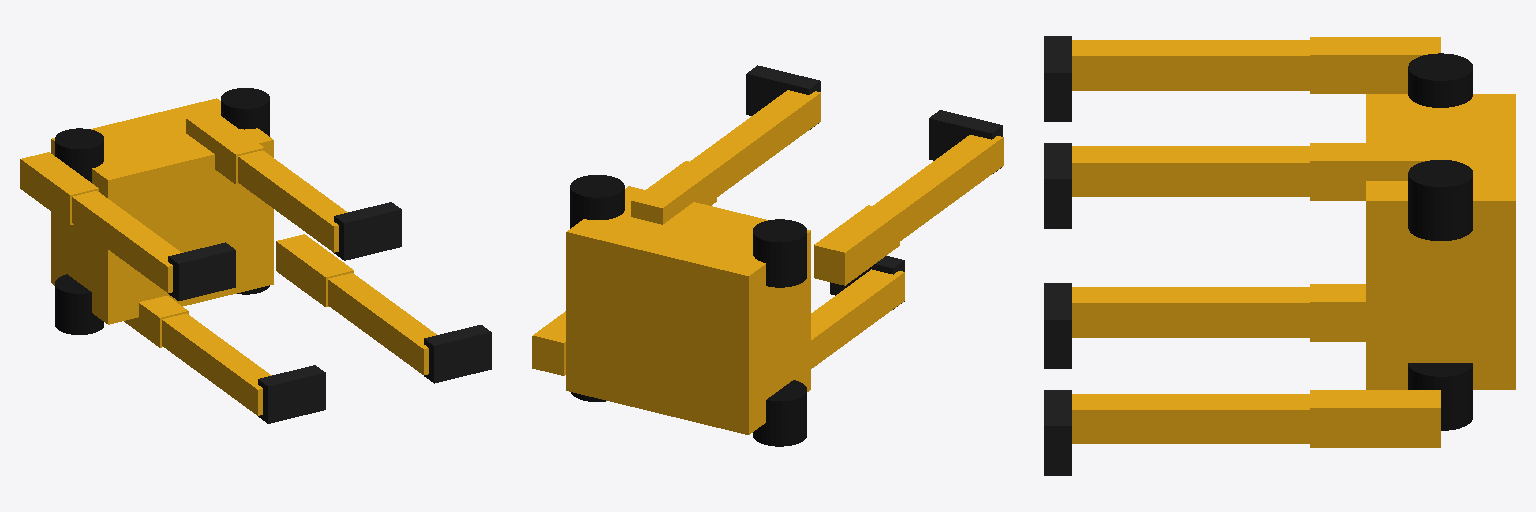
URDF robot description (cubebot):
<?xml version="1.0"?>
<robot name="cubebot">
  <material name="shell"><color rgba="0.98 0.72 0.12 1"/></material>
  <material name="joint"><color rgba="0.12 0.12 0.12 1"/></material>
  <material name="foot"><color rgba="0.16 0.16 0.16 1"/></material>
  <link name="body">
    <visual><origin xyz="0 0 0"/><geometry><box size="0.0925 0.055 0.077"/></geometry><material name="shell"/></visual>
  </link>
  <link name="fl_hip">
    <visual><origin xyz="0 0 0"/><geometry><cylinder radius="0.012" length="0.022"/></geometry><material name="joint"/></visual>
  </link>
  <link name="fl_thigh">
    <visual><origin xyz="0 -0.024 0"/><geometry><box size="0.016 0.048 0.016"/></geometry><material name="shell"/></visual>
  </link>
  <link name="fl_shin">
    <visual><origin xyz="0 -0.0464 0"/><geometry><box size="0.014 0.0928 0.014"/></geometry><material name="shell"/></visual>
  </link>
  <link name="fl_foot">
    <visual><origin xyz="0.012 0 0"/><geometry><box size="0.032 0.01 0.02"/></geometry><material name="foot"/></visual>
  </link>
  <joint name="fl_hip_yaw" type="revolute">
    <parent link="body"/><child link="fl_hip"/>
    <origin xyz="0.04625 0 -0.0385" rpy="0 0 0"/>
    <axis xyz="0 1 0"/><limit lower="-1.6" upper="1.6" effort="6" velocity="8"/>
  </joint>
  <joint name="fl_hip_pitch" type="revolute">
    <parent link="fl_hip"/><child link="fl_thigh"/>
    <origin xyz="0.025 0 0" rpy="0 0 0"/>
    <axis xyz="0 0 1"/><limit lower="-2.4" upper="2.4" effort="6" velocity="8"/>
  </joint>
  <joint name="fl_knee" type="revolute">
    <parent link="fl_thigh"/><child link="fl_shin"/>
    <origin xyz="0 -0.048 0" rpy="0 0 0"/>
    <axis xyz="0 0 1"/><limit lower="-2.6" upper="0.2" effort="6" velocity="8"/>
  </joint>
  <joint name="fl_foot" type="fixed">
    <parent link="fl_shin"/><child link="fl_foot"/>
    <origin xyz="0 -0.0928 0"/>
  </joint>
  <link name="fr_hip">
    <visual><origin xyz="0 0 0"/><geometry><cylinder radius="0.012" length="0.022"/></geometry><material name="joint"/></visual>
  </link>
  <link name="fr_thigh">
    <visual><origin xyz="0 -0.024 0"/><geometry><box size="0.016 0.048 0.016"/></geometry><material name="shell"/></visual>
  </link>
  <link name="fr_shin">
    <visual><origin xyz="0 -0.0464 0"/><geometry><box size="0.014 0.0928 0.014"/></geometry><material name="shell"/></visual>
  </link>
  <link name="fr_foot">
    <visual><origin xyz="0.012 0 0"/><geometry><box size="0.032 0.01 0.02"/></geometry><material name="foot"/></visual>
  </link>
  <joint name="fr_hip_yaw" type="revolute">
    <parent link="body"/><child link="fr_hip"/>
    <origin xyz="0.04625 0 0.0385" rpy="0 0 0"/>
    <axis xyz="0 1 0"/><limit lower="-1.6" upper="1.6" effort="6" velocity="8"/>
  </joint>
  <joint name="fr_hip_pitch" type="revolute">
    <parent link="fr_hip"/><child link="fr_thigh"/>
    <origin xyz="-0.025 0 0" rpy="0 0 0"/>
    <axis xyz="0 0 1"/><limit lower="-2.4" upper="2.4" effort="6" velocity="8"/>
  </joint>
  <joint name="fr_knee" type="revolute">
    <parent link="fr_thigh"/><child link="fr_shin"/>
    <origin xyz="0 -0.048 0" rpy="0 0 0"/>
    <axis xyz="0 0 1"/><limit lower="-2.6" upper="0.2" effort="6" velocity="8"/>
  </joint>
  <joint name="fr_foot" type="fixed">
    <parent link="fr_shin"/><child link="fr_foot"/>
    <origin xyz="0 -0.0928 0"/>
  </joint>
  <link name="bl_hip">
    <visual><origin xyz="0 0 0"/><geometry><cylinder radius="0.012" length="0.022"/></geometry><material name="joint"/></visual>
  </link>
  <link name="bl_thigh">
    <visual><origin xyz="0 -0.024 0"/><geometry><box size="0.016 0.048 0.016"/></geometry><material name="shell"/></visual>
  </link>
  <link name="bl_shin">
    <visual><origin xyz="0 -0.0464 0"/><geometry><box size="0.014 0.0928 0.014"/></geometry><material name="shell"/></visual>
  </link>
  <link name="bl_foot">
    <visual><origin xyz="0.012 0 0"/><geometry><box size="0.032 0.01 0.02"/></geometry><material name="foot"/></visual>
  </link>
  <joint name="bl_hip_yaw" type="revolute">
    <parent link="body"/><child link="bl_hip"/>
    <origin xyz="-0.04625 0 -0.0385" rpy="0 0 0"/>
    <axis xyz="0 1 0"/><limit lower="-1.6" upper="1.6" effort="6" velocity="8"/>
  </joint>
  <joint name="bl_hip_pitch" type="revolute">
    <parent link="bl_hip"/><child link="bl_thigh"/>
    <origin xyz="0.025 0 0" rpy="0 0 0"/>
    <axis xyz="0 0 1"/><limit lower="-2.4" upper="2.4" effort="6" velocity="8"/>
  </joint>
  <joint name="bl_knee" type="revolute">
    <parent link="bl_thigh"/><child link="bl_shin"/>
    <origin xyz="0 -0.048 0" rpy="0 0 0"/>
    <axis xyz="0 0 1"/><limit lower="-2.6" upper="0.2" effort="6" velocity="8"/>
  </joint>
  <joint name="bl_foot" type="fixed">
    <parent link="bl_shin"/><child link="bl_foot"/>
    <origin xyz="0 -0.0928 0"/>
  </joint>
  <link name="br_hip">
    <visual><origin xyz="0 0 0"/><geometry><cylinder radius="0.012" length="0.022"/></geometry><material name="joint"/></visual>
  </link>
  <link name="br_thigh">
    <visual><origin xyz="0 -0.024 0"/><geometry><box size="0.016 0.048 0.016"/></geometry><material name="shell"/></visual>
  </link>
  <link name="br_shin">
    <visual><origin xyz="0 -0.0464 0"/><geometry><box size="0.014 0.0928 0.014"/></geometry><material name="shell"/></visual>
  </link>
  <link name="br_foot">
    <visual><origin xyz="0.012 0 0"/><geometry><box size="0.032 0.01 0.02"/></geometry><material name="foot"/></visual>
  </link>
  <joint name="br_hip_yaw" type="revolute">
    <parent link="body"/><child link="br_hip"/>
    <origin xyz="-0.04625 0 0.0385" rpy="0 0 0"/>
    <axis xyz="0 1 0"/><limit lower="-1.6" upper="1.6" effort="6" velocity="8"/>
  </joint>
  <joint name="br_hip_pitch" type="revolute">
    <parent link="br_hip"/><child link="br_thigh"/>
    <origin xyz="-0.025 0 0" rpy="0 0 0"/>
    <axis xyz="0 0 1"/><limit lower="-2.4" upper="2.4" effort="6" velocity="8"/>
  </joint>
  <joint name="br_knee" type="revolute">
    <parent link="br_thigh"/><child link="br_shin"/>
    <origin xyz="0 -0.048 0" rpy="0 0 0"/>
    <axis xyz="0 0 1"/><limit lower="-2.6" upper="0.2" effort="6" velocity="8"/>
  </joint>
  <joint name="br_foot" type="fixed">
    <parent link="br_shin"/><child link="br_foot"/>
    <origin xyz="0 -0.0928 0"/>
  </joint>
</robot>

--- Render facts (derived) ---
Views: 3 orthographic renders of the robot side by side, from view 1: azimuth 30°, elevation 25°; view 2: azimuth 150°, elevation 25°; view 3: azimuth 270°, elevation 25°.
Robot: cubebot — 17 links, 16 joints (12 revolute, 4 fixed); root link body; default pose: all joints at 0.
Visible links, largest first — view 1: body, fl_shin, fr_shin, bl_shin, br_shin, br_thigh, fl_thigh, fl_foot, fr_foot, bl_foot, br_foot, fr_thigh (+4 smaller); view 2: body, fr_shin, br_shin, bl_shin, br_thigh, fr_thigh, br_hip, bl_hip, fr_hip, fr_foot, br_foot, fl_thigh (+1 smaller); view 3: body, fr_shin, bl_shin, br_shin, fl_shin, fl_thigh, br_thigh, fr_thigh, fr_hip, bl_thigh, br_hip, fl_hip (+4 smaller).
Boxes of the visible links, x1,y1,x2,y2 form: body: (51,98,273,324); fl_shin: (328,273,436,374); fr_shin: (238,150,347,252); bl_shin: (162,313,271,415); br_shin: (72,191,181,292); br_thigh: (20,152,98,224); fl_thigh: (276,234,353,306); fl_foot: (424,325,491,383); fr_foot: (334,202,401,260); bl_foot: (258,365,325,423); br_foot: (168,242,235,300); fr_thigh: (186,112,264,184); body: (566,186,810,434); fr_shin: (690,90,820,196); br_shin: (873,135,1003,240); bl_shin: (811,269,904,368); br_thigh: (814,205,899,285); fr_thigh: (631,161,716,224); br_hip: (753,219,806,287); bl_hip: (753,380,806,446); fr_hip: (570,175,624,228); fr_foot: (746,65,820,129); br_foot: (929,110,1002,173); fl_thigh: (532,311,565,375); body: (1366,94,1515,389); fr_shin: (1072,146,1309,196); bl_shin: (1072,287,1309,337); br_shin: (1072,40,1309,90); fl_shin: (1072,394,1309,443); fl_thigh: (1310,390,1440,447); br_thigh: (1310,37,1440,93); fr_thigh: (1310,143,1440,200); fr_hip: (1408,160,1472,240); bl_thigh: (1310,284,1365,341); br_hip: (1408,53,1472,107); fl_hip: (1408,363,1472,430).
Size in the robot's own frame: 0.1785 by 0.1733 by 0.099 metres.
Geometry: primitives only (box / cylinder / sphere), no mesh files.
